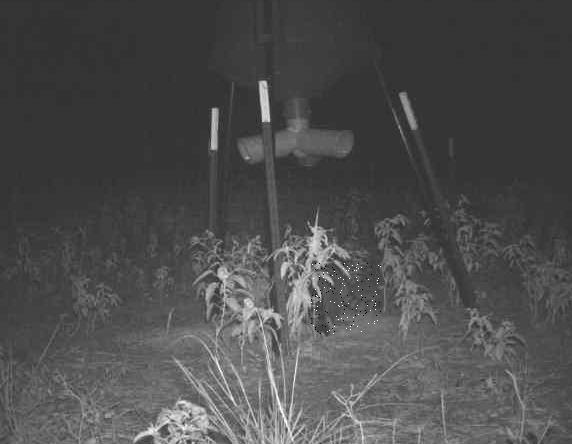Raccoon: (312, 263, 382, 334)
